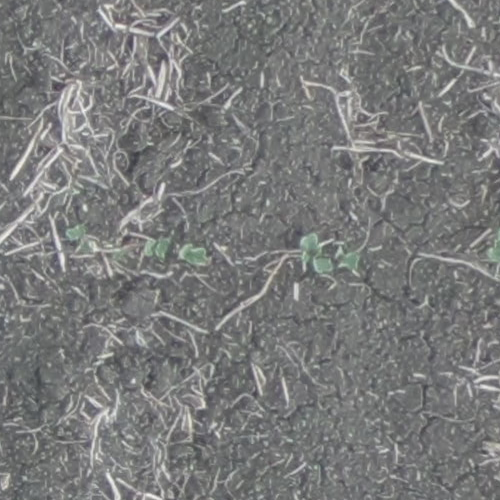isolated: (299, 233, 332, 275), (180, 244, 211, 268), (486, 223, 499, 266)
